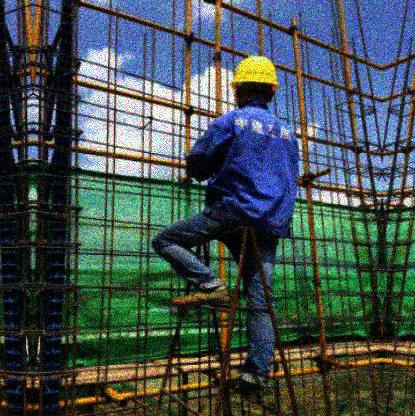helmet: (229, 56, 281, 112)
